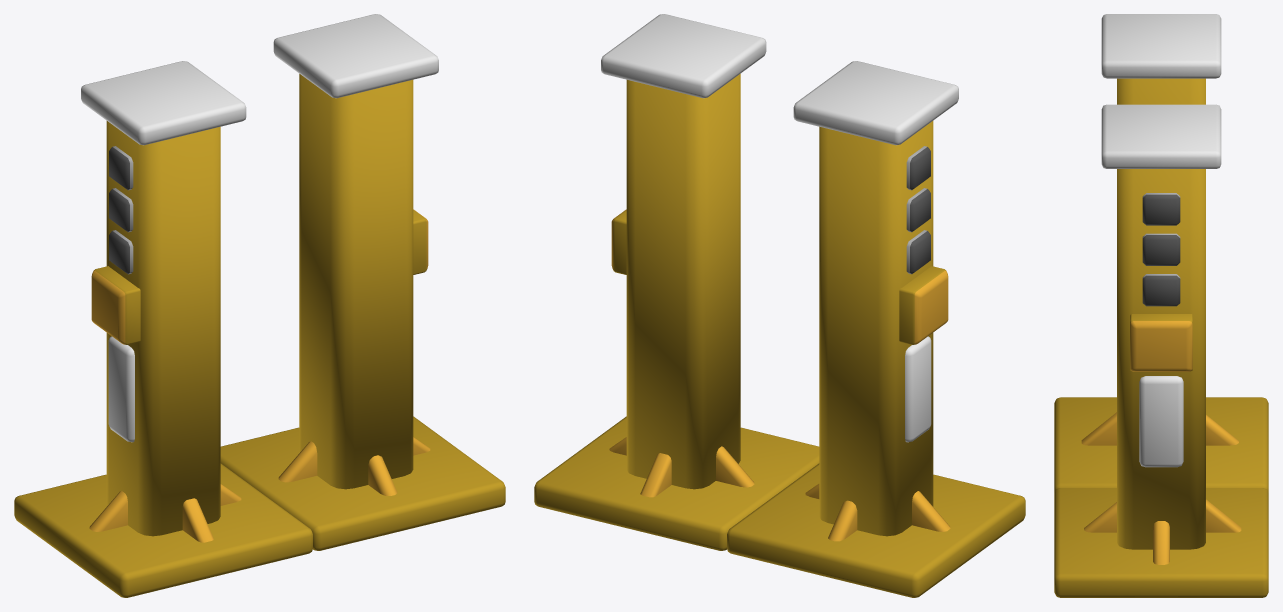
Rendered from Gate.fbx.
3 renders of one model, left to right at view 1: azimuth 30°, elevation 25°; view 2: azimuth 150°, elevation 25°; view 3: azimuth 270°, elevation 25°, orthographic. The views are drawn at different scales.
Visible parts, largest first — view 1: Cube.002, Cube.001; view 2: Cube.002, Cube.001; view 3: Cube.001, Cube.002.
Part boxes in pixels (bbox=[...]): Cube.002: bbox=[14, 61, 312, 597]; Cube.001: bbox=[220, 14, 505, 550]; Cube.002: bbox=[727, 61, 1025, 597]; Cube.001: bbox=[534, 14, 819, 550]; Cube.001: bbox=[1054, 104, 1268, 597]; Cube.002: bbox=[1054, 14, 1268, 492].
Bounding box in the file's own units: 1.92 × 2.11 × 0.96.
